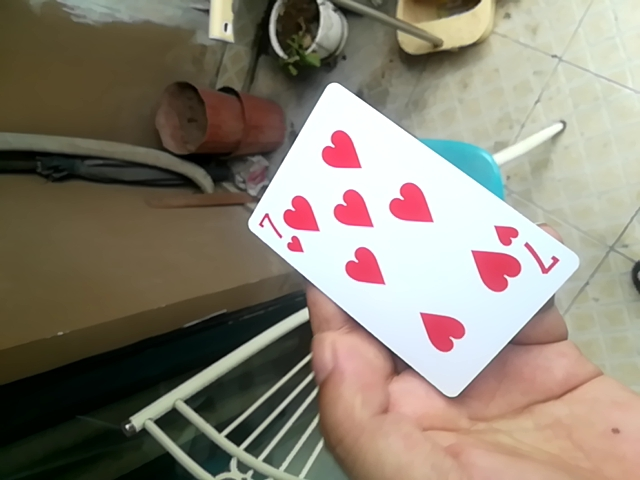hx 7: (249, 89, 586, 408)
